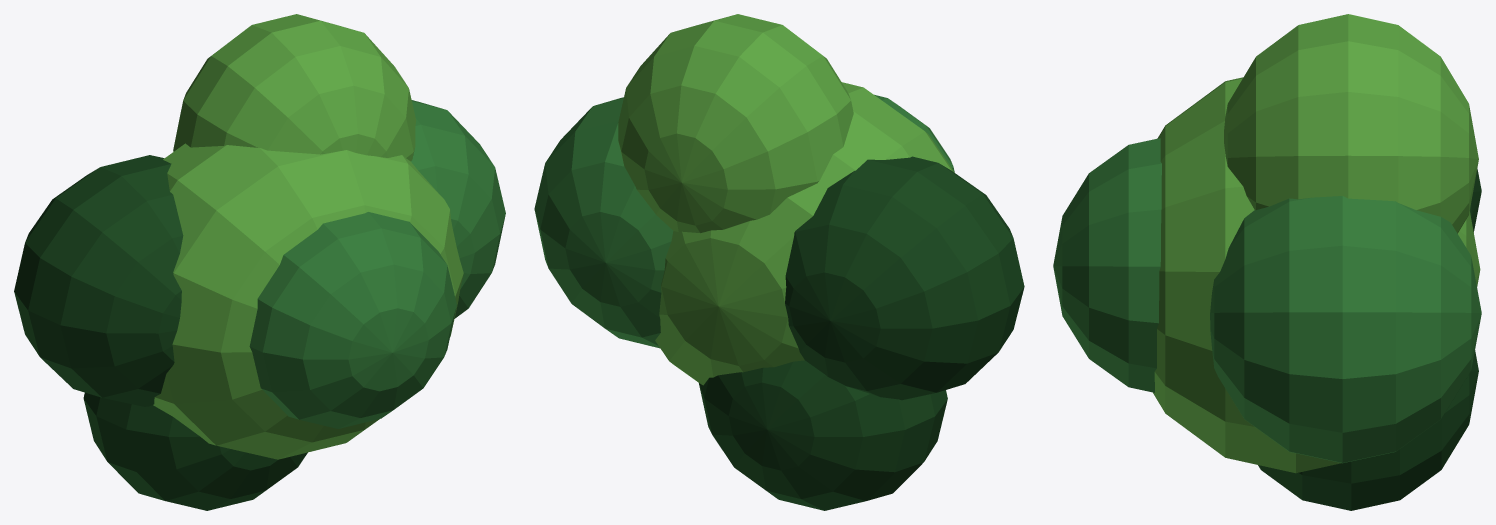
Rendered from tree_crown_round.obj.
3 renders of one model, left to right at view 1: azimuth 30°, elevation 25°; view 2: azimuth 150°, elevation 25°; view 3: azimuth 270°, elevation 25°, orthographic. The views are drawn at different scales.
Visible parts, largest first — view 1: LeafLobe0, LeafLobe5, LeafLobe2, LeafLobe3, LeafLobe4, LeafLobe1; view 2: LeafLobe2, LeafLobe3, LeafLobe0, LeafLobe4, LeafLobe1, LeafLobe5; view 3: LeafLobe1, LeafLobe3, LeafLobe0, LeafLobe5, LeafLobe4.
Boxes of the visible parts, left/top/right/bottom form: LeafLobe0: left=153, top=143, right=463, bottom=459; LeafLobe5: left=249, top=212, right=456, bottom=428; LeafLobe2: left=14, top=155, right=183, bottom=406; LeafLobe3: left=173, top=14, right=416, bottom=161; LeafLobe4: left=83, top=392, right=307, bottom=510; LeafLobe1: left=411, top=100, right=505, bottom=318; LeafLobe2: left=785, top=156, right=1024, bottom=400; LeafLobe3: left=618, top=14, right=853, bottom=233; LeafLobe0: left=655, top=82, right=954, bottom=385; LeafLobe4: left=699, top=360, right=947, bottom=510; LeafLobe1: left=534, top=97, right=673, bottom=348; LeafLobe5: left=874, top=94, right=954, bottom=171; LeafLobe1: left=1210, top=196, right=1481, bottom=463; LeafLobe3: left=1224, top=14, right=1478, bottom=233; LeafLobe0: left=1153, top=77, right=1480, bottom=473; LeafLobe5: left=1053, top=138, right=1161, bottom=392; LeafLobe4: left=1258, top=350, right=1478, bottom=510.
Size of the model in its own units: 4.32 by 4.02 by 3.02.
